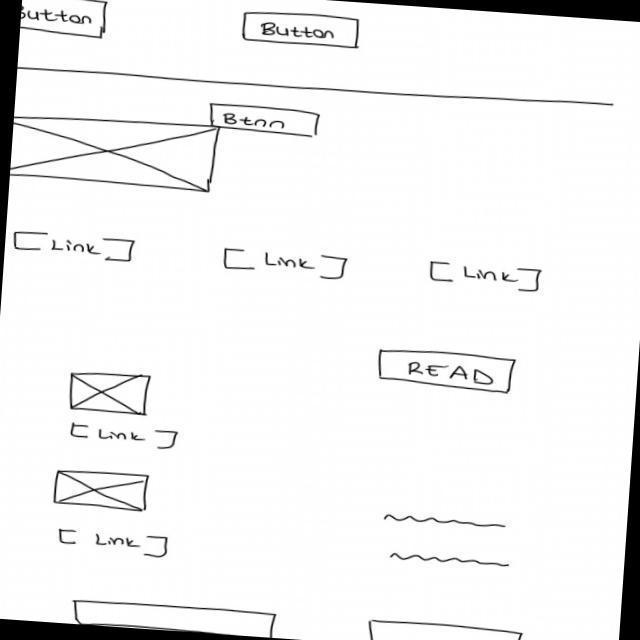button: (376, 346, 519, 396), (240, 9, 364, 51), (209, 102, 324, 138), (20, 1, 109, 40)
image: (11, 110, 222, 193), (52, 468, 151, 514), (68, 369, 154, 419)
input: (71, 597, 279, 639), (366, 618, 525, 640)
link: (221, 246, 351, 283), (427, 259, 547, 297), (11, 229, 139, 264), (59, 528, 172, 560), (68, 423, 181, 452)
text: (381, 512, 512, 534), (388, 552, 517, 572)
